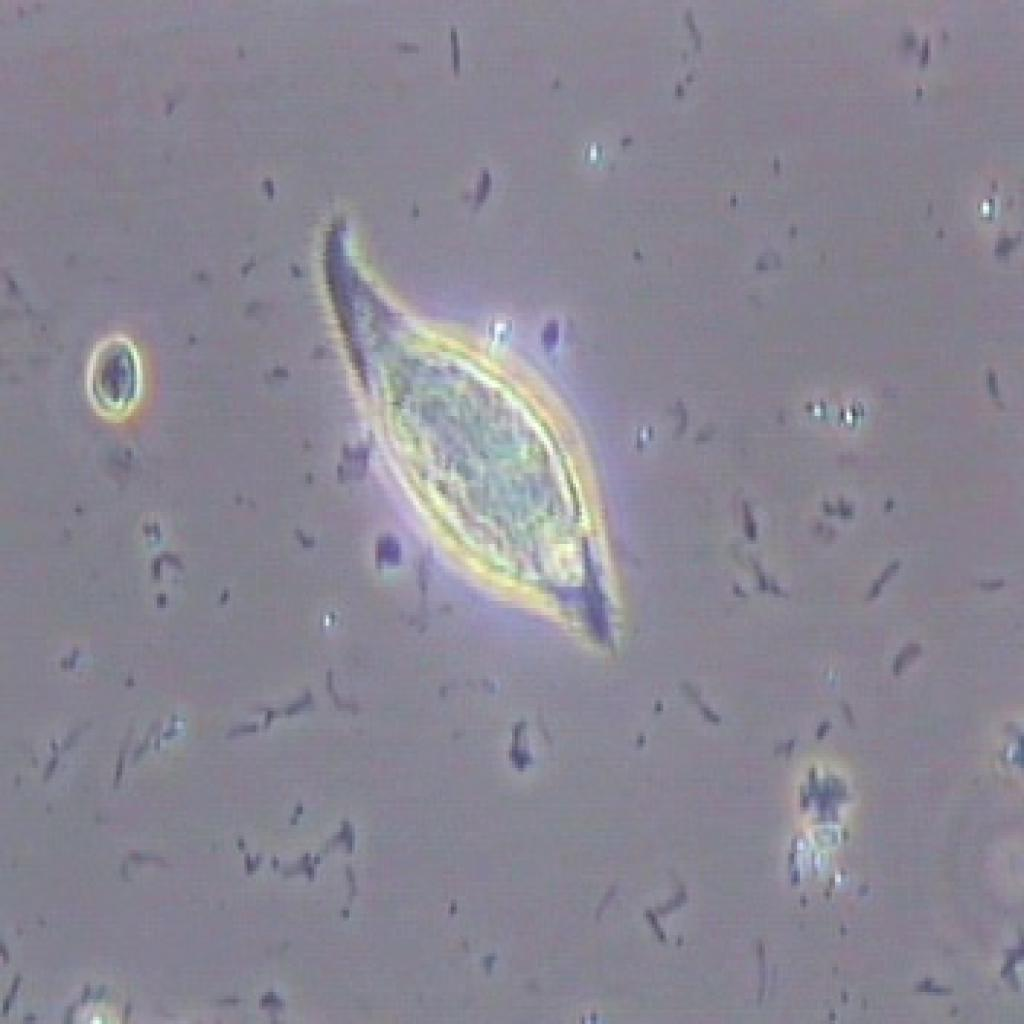Pristina: (278, 176, 656, 681)
